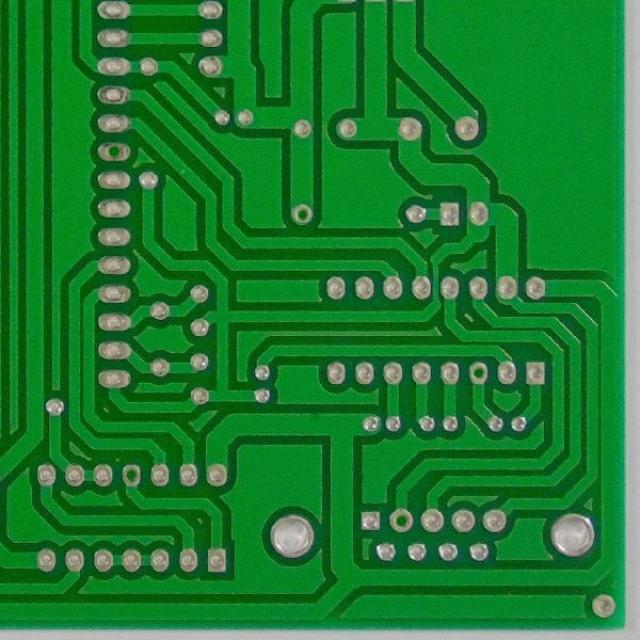missing_hole: (388, 506, 417, 536), (120, 459, 143, 492), (466, 360, 493, 387), (289, 204, 319, 228), (101, 138, 129, 163)
